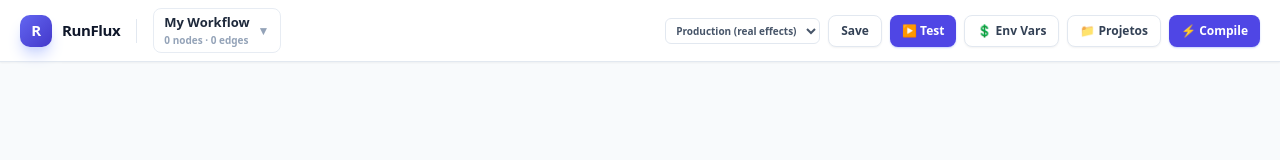
Toolbar — Test (RF-06, RF-12, RN-04) › shows an error status and re-enables the Test button when the run rejects (e.g. a cancelled webhook wait)
Step 1. Click the button "▶ Test" → (923, 30), box [890, 14, 956, 46]
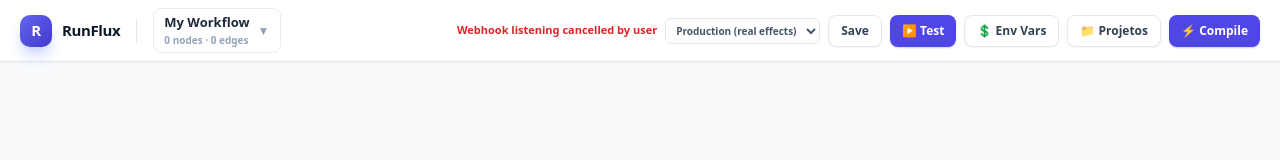
Result: the text "Webhook listening cancelled by user" is shown at [457, 22, 657, 39]
